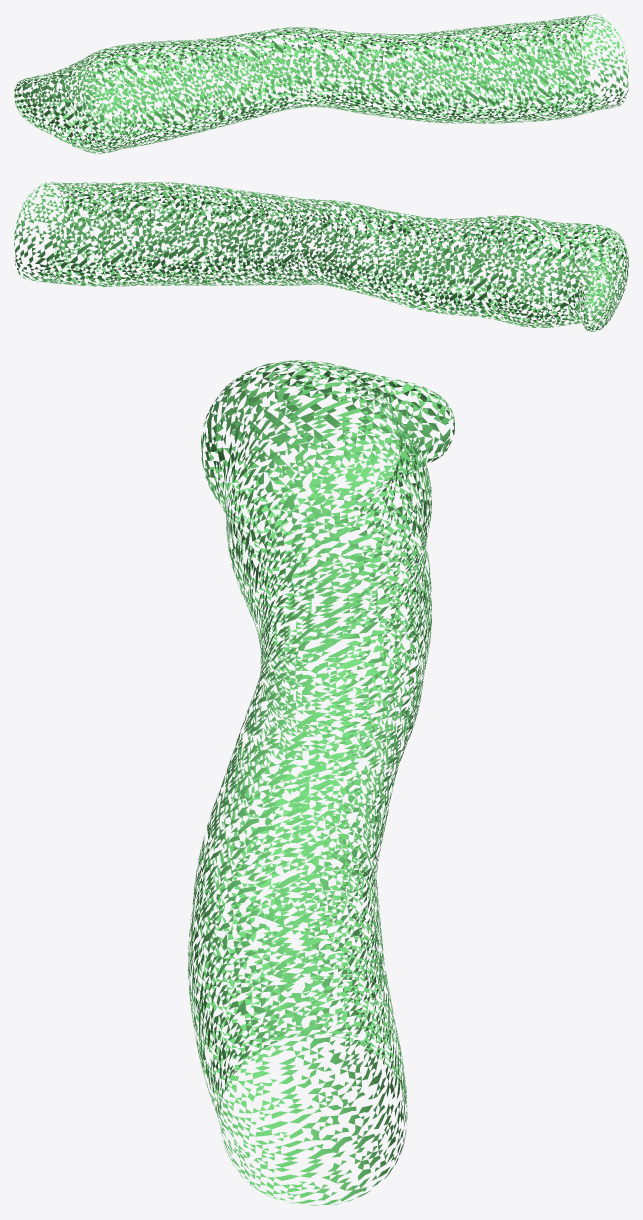
File: morph_018.glb
3 renders of one model, top to bottom at view 1: azimuth 30°, elevation 25°; view 2: azimuth 150°, elevation 25°; view 3: azimuth 270°, elevation 25°, orthographic. The views are drawn at different scales.
Bounding box in the file's own units: 103 × 29.31 × 21.11.
